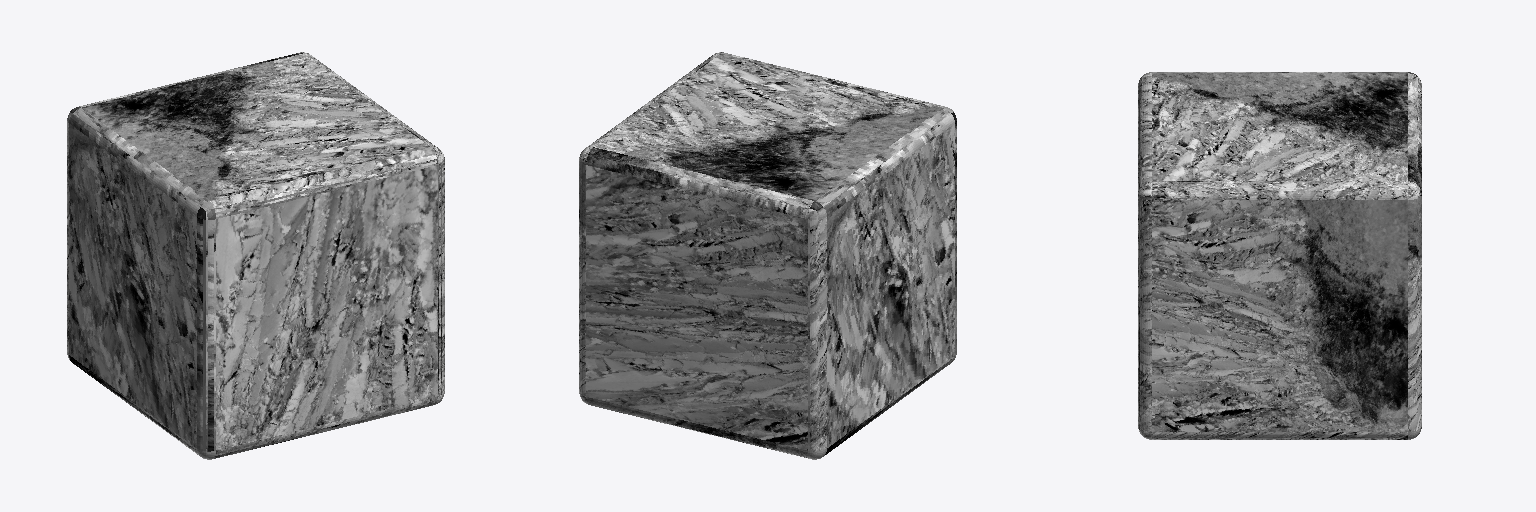
3 renders of one model, left to right at view 1: azimuth 30°, elevation 25°; view 2: azimuth 150°, elevation 25°; view 3: azimuth 270°, elevation 25°, orthographic.
Parts seen in each view (by area): view 1: Cube; view 2: Cube; view 3: Cube.
Part boxes in pixels (left/top/right/bottom): Cube: left=67, top=52, right=444, bottom=459; Cube: left=579, top=52, right=956, bottom=459; Cube: left=1138, top=72, right=1421, bottom=439.
Size of the model in its own units: 2 by 2 by 2.
1 materials, 1 textured.